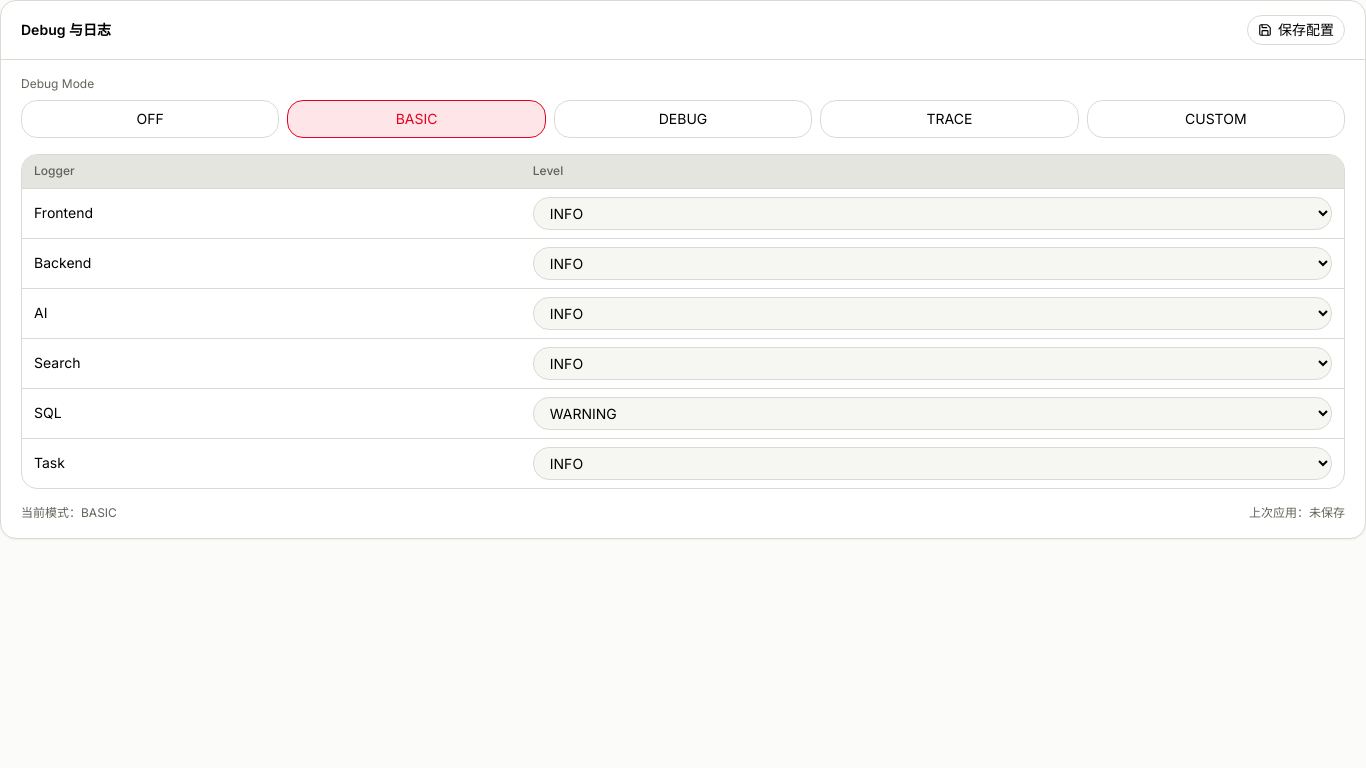
DebugLogSettingsCard › switches all selects to OFF when OFF mode is chosen
Expected: the text "当前模式：BASIC" is shown, x1=21 y1=505 x2=117 y2=522
Click the button "OFF" at (150, 119), box x1=21 y1=100 x2=279 y2=138
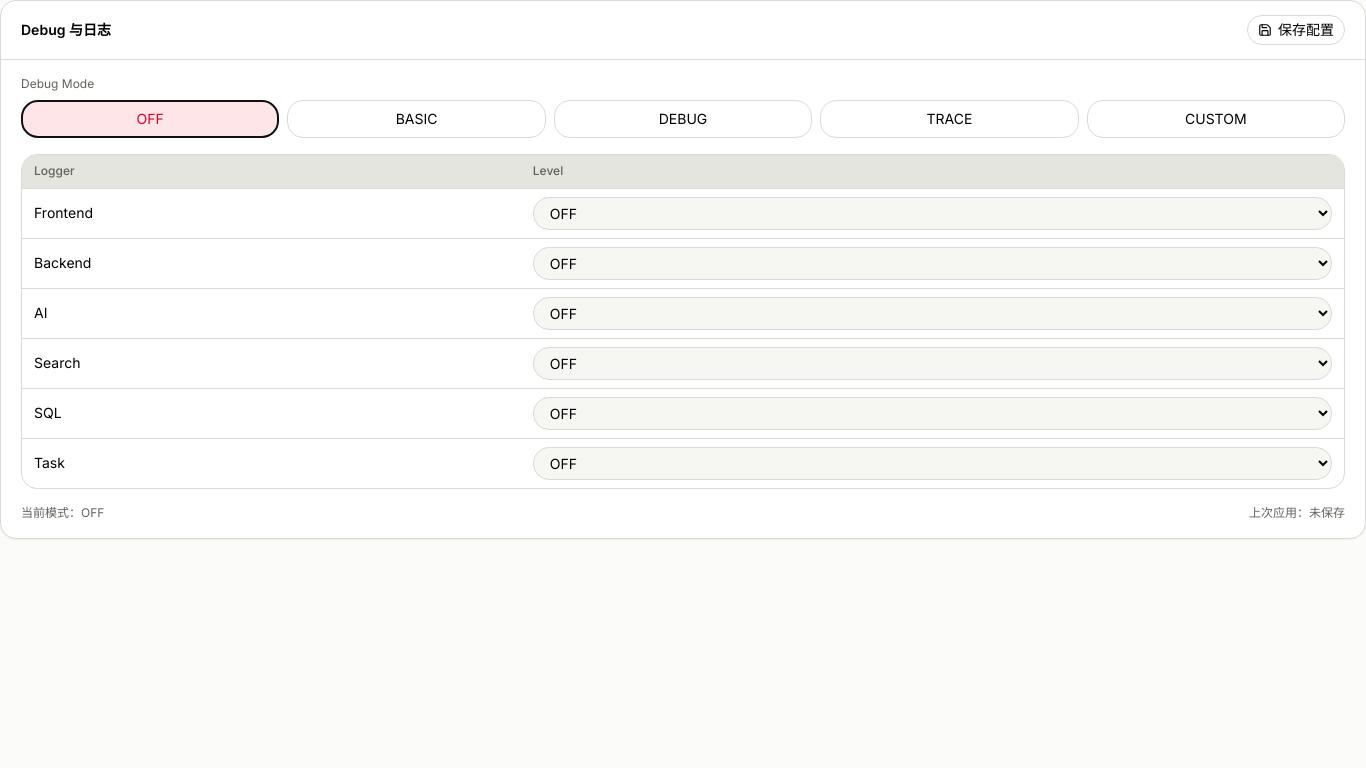
Expected: the dropdown in the row of "Frontend" shows "OFF", x1=533 y1=197 x2=1332 y2=230
Expected: the dropdown in the row of "Backend" shows "OFF", x1=533 y1=247 x2=1332 y2=280
Expected: the dropdown in the row of "AI" shows "OFF", x1=533 y1=297 x2=1332 y2=330
